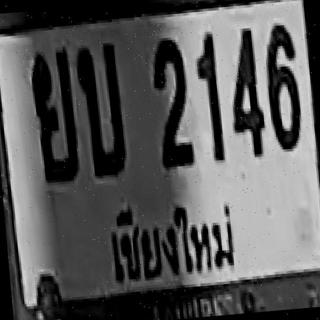A26: (72, 39, 126, 177)
A34: (27, 46, 79, 181)
N01: (192, 32, 225, 163)
N02: (150, 36, 194, 168)
N04: (224, 24, 267, 158)
N06: (261, 22, 304, 152)
P11: (98, 190, 244, 295)
